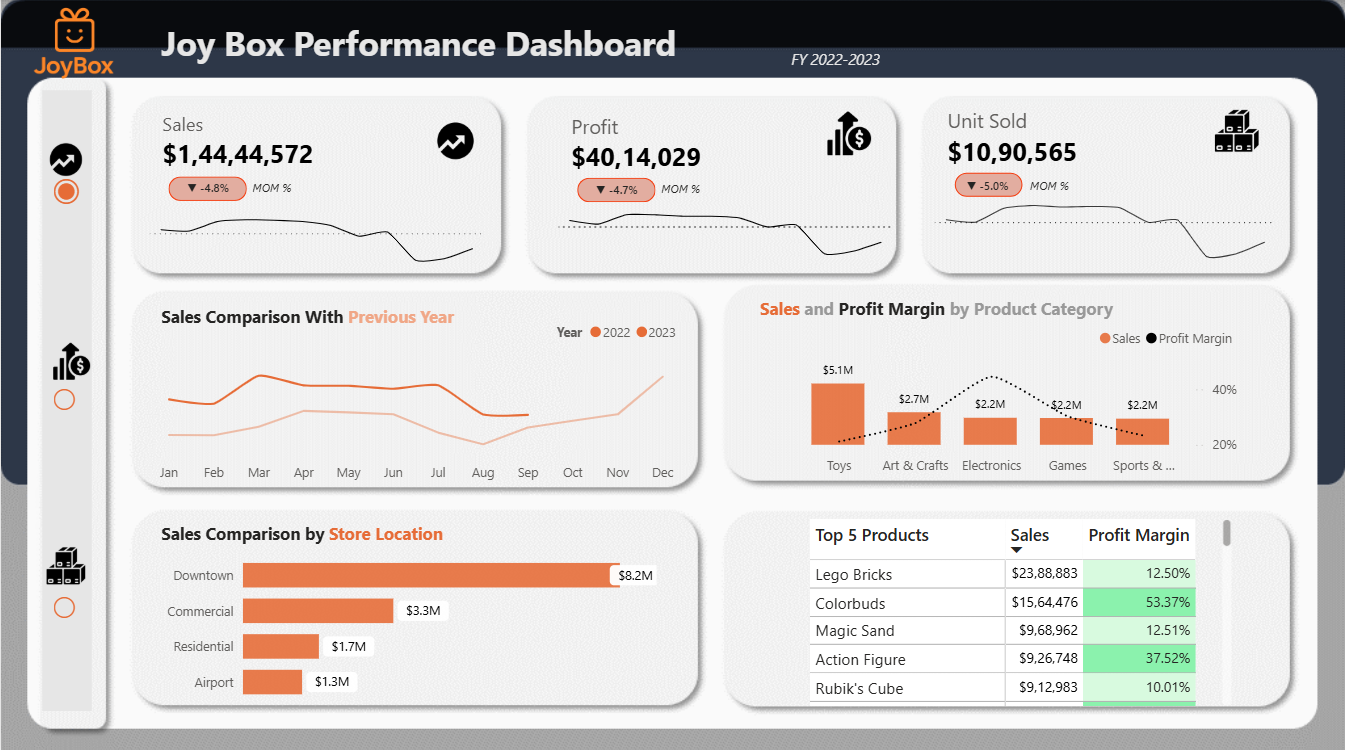

What the dashboard file says about the page in this screenshot:
{"tool":"powerbi","page":{"name":"dashboard","canvas":[1280,720],"ordinal":0},"visuals":[{"type":"cardVisual","fields":{"Data":["sales.unit sold"]},"box":[885.1,86.2,337.4,170.4],"z":0,"group":"g2"},{"type":"group","id":"g1","title":"sales","box":[137.2,94.7,337.4,170.2],"z":0},{"type":"cardVisual","fields":{"Data":["sales.Total Sales"]},"box":[137.3,94.7,337.3,163.3],"z":0,"group":"g1"},{"type":"cardVisual","fields":{"Data":["sales.total Profit"]},"box":[526.4,96.2,337.3,163.3],"z":1000},{"type":"areaChart","fields":{"Y":["sales.Total Sales"],"Category":["calendar.Start of Month.Variation.Date Hierarchy.Month"]},"box":[137.2,174.3,328,90.6],"z":1000,"group":"g1"},{"type":"areaChart","fields":{"Category":["calendar.Start of Month.Variation.Date Hierarchy.Month"],"Y":["sales.unit sold"]},"box":[885,178.4,335,85],"z":1000,"group":"g2"},{"type":"shape","box":[903.9,161.5,74.4,37.8],"z":2000,"group":"g2"},{"type":"shape","box":[160,168.7,74.7,23.3],"z":2000,"group":"g1"},{"type":"areaChart","fields":{"Category":["calendar.Start of Month.Variation.Date Hierarchy.Month"],"Y":["sales.total Profit"]},"box":[526.3,175.9,328,90.6],"z":2000},{"type":"card","fields":{"Values":["sales.unitsold mom"]},"box":[915,162.1,51.3,37.8],"z":3000,"group":"g2"},{"type":"card","fields":{"Values":["sales.mom arrow"]},"box":[170,166.7,54.7,23.3],"z":3000,"group":"g1"},{"type":"shape","box":[549,170.2,74.7,23.3],"z":3000},{"type":"group","id":"g2","title":"Group 1","box":[885,86.2,337.5,177.2],"z":4000},{"type":"textbox","box":[234.6,163.4,57.3,30.7],"z":4000,"group":"g1"},{"type":"textbox","box":[975,163.7,56.7,32.2],"z":4000,"group":"g2"},{"type":"card","fields":{"Values":["sales.profit mom"]},"box":[559,168.2,54.7,23.3],"z":5000},{"type":"lineChart","fields":{"Series":["calendar.Year"],"Category":["calendar.Month Name"],"Y":["sales.Total Sales"]},"box":[138.1,297.6,514.3,171.4],"z":6000},{"type":"textbox","box":[623.7,164.9,57.3,30.7],"z":7000},{"type":"advancedSlicerVisual","fields":{"Values":["insights pm.insights pm"]},"box":[39.4,86.6,47.5,591.2],"z":8000,"group":"g3"},{"type":"lineStackedColumnComboChart","fields":{"Y":["sales.Total Sales"],"Category":["products.Product_Category"],"Y2":["sales.profit margin"]},"box":[725,303.6,457.1,151.2],"z":8000},{"type":"pivotTable","title":"Top 5 Products","fields":{"Values":["sales.Total Sales","sales.profit margin"],"Rows":["products.Product_Name"]},"box":[765,490,416.2,187.5],"z":9000},{"type":"barChart","fields":{"Y":["sales.Total Sales"],"Category":["stores.Store_Location"]},"box":[147.6,510.7,482.1,166.7],"z":10000},{"type":"image","box":[390,110,85,51.2],"z":11000},{"type":"image","box":[1135,100,85,51.2],"z":12000},{"type":"image","box":[765,102.5,85,51.2],"z":13000},{"type":"group","id":"g3","title":"Group 2","box":[18.3,86.6,88.8,591.2],"z":14000},{"type":"textbox","box":[147.5,15,546.2,55],"z":15000},{"type":"textbox","box":[747.5,42.5,118.8,40],"z":16000},{"type":"image","box":[18.3,129.5,88.8,46.2],"z":16000,"group":"g3"},{"type":"image","box":[6.2,0,123.8,83.8],"z":17000},{"type":"image","box":[34.5,322,66.2,45],"z":17000,"group":"g3"},{"type":"textbox","box":[147.6,283.3,370.2,39.3],"z":18000},{"type":"image","box":[23.3,515.8,78.8,46.2],"z":18000,"group":"g3"},{"type":"textbox","box":[717.9,278.6,395.2,44],"z":19000},{"type":"textbox","box":[147.6,490.5,370.2,39.3],"z":20000}]}

Visuals, with their boxes in screenshot pixels (x1, y1, x2, y2), scaled from the page's 1280x720 canvas onto the 1345x750 screenshot:
cardVisual - sales.unit sold: box(930, 90, 1285, 267)
"sales" group: box(144, 99, 499, 276)
cardVisual - sales.Total Sales: box(144, 99, 499, 269)
cardVisual - sales.total Profit: box(553, 100, 908, 270)
areaChart - sales.Total Sales x calendar.Start of Month.Variation.Date Hierarchy.Month: box(144, 182, 489, 276)
areaChart - calendar.Start of Month.Variation.Date Hierarchy.Month x sales.unit sold: box(930, 186, 1282, 274)
shape: box(950, 168, 1028, 208)
shape: box(168, 176, 247, 200)
areaChart - calendar.Start of Month.Variation.Date Hierarchy.Month x sales.total Profit: box(553, 183, 898, 278)
card - sales.unitsold mom: box(961, 169, 1015, 208)
card - sales.mom arrow: box(179, 174, 236, 198)
shape: box(577, 177, 655, 202)
"Group 1" group: box(930, 90, 1285, 274)
textbox: box(247, 170, 307, 202)
textbox: box(1025, 171, 1084, 204)
card - sales.profit mom: box(587, 175, 645, 199)
lineChart - calendar.Year x calendar.Month Name: box(145, 310, 686, 489)
textbox: box(655, 172, 716, 204)
advancedSlicerVisual - insights pm.insights pm: box(41, 90, 91, 706)
lineStackedColumnComboChart - sales.Total Sales x products.Product_Category: box(762, 316, 1242, 474)
"Top 5 Products" pivotTable: box(804, 510, 1241, 706)
barChart - sales.Total Sales x stores.Store_Location: box(155, 532, 662, 706)
image: box(410, 115, 499, 168)
image: box(1193, 104, 1282, 158)
image: box(804, 107, 893, 160)
"Group 2" group: box(19, 90, 113, 706)
textbox: box(155, 16, 729, 73)
textbox: box(785, 44, 910, 86)
image: box(19, 135, 113, 183)
image: box(7, 0, 137, 87)
image: box(36, 335, 106, 382)
textbox: box(155, 295, 544, 336)
image: box(24, 537, 107, 585)
textbox: box(754, 290, 1170, 336)
textbox: box(155, 511, 544, 552)
